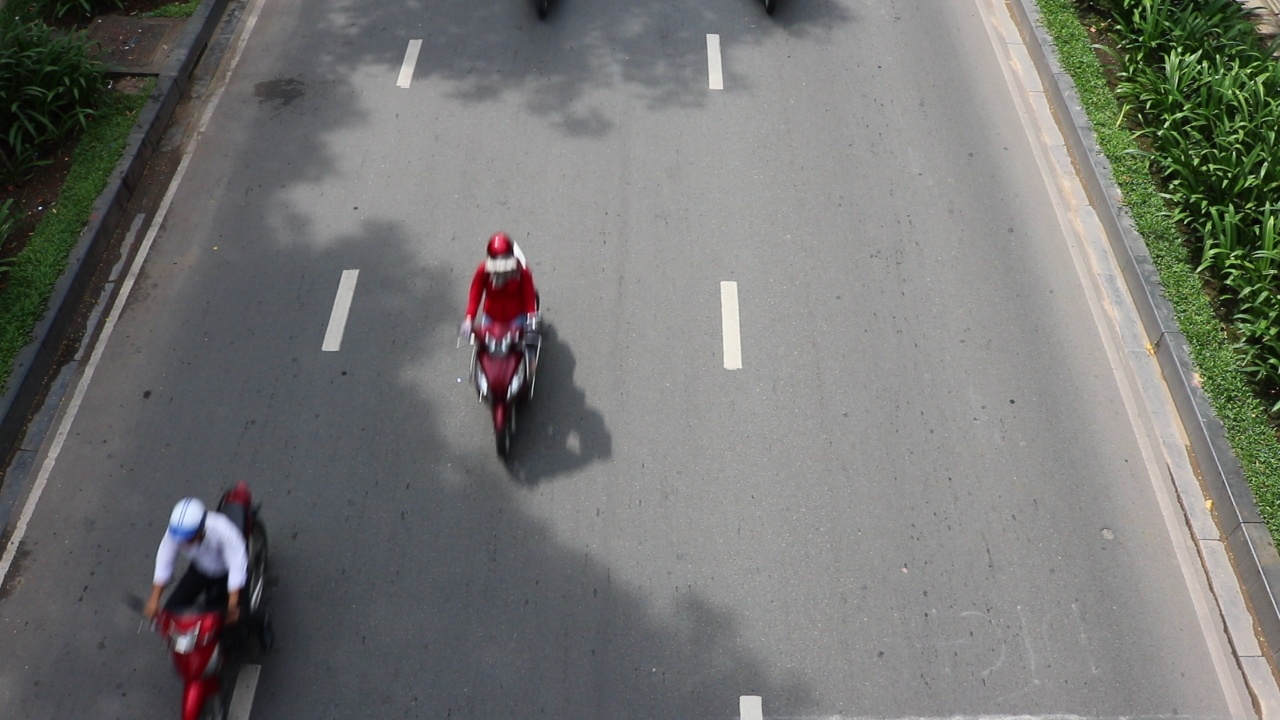motorcycle: (461, 315, 550, 470), (146, 599, 245, 716)
